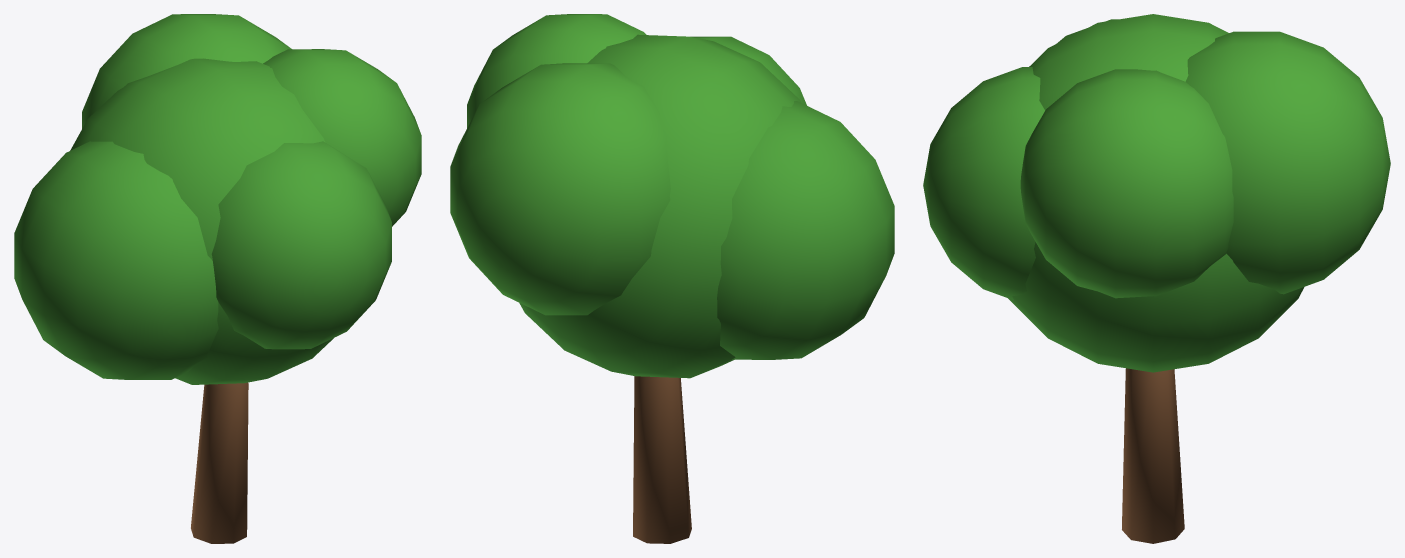
The model's file is tree_round_dark.glb.
3 views of the same model, side by side, from view 1: azimuth 30°, elevation 25°; view 2: azimuth 150°, elevation 25°; view 3: azimuth 270°, elevation 25° (orthographic). The views are drawn at different scales.
Parts seen in each view (by area): view 1: Tree_Round_Dark_Canopy, Tree_Round_Dark_Trunk; view 2: Tree_Round_Dark_Canopy, Tree_Round_Dark_Trunk; view 3: Tree_Round_Dark_Canopy, Tree_Round_Dark_Trunk.
Boxes of the visible parts, box(x1,y1,x2,y2) form: Tree_Round_Dark_Canopy: box(14, 14, 421, 384); Tree_Round_Dark_Trunk: box(191, 382, 248, 543); Tree_Round_Dark_Canopy: box(450, 14, 894, 378); Tree_Round_Dark_Trunk: box(633, 376, 691, 543); Tree_Round_Dark_Canopy: box(923, 14, 1390, 372); Tree_Round_Dark_Trunk: box(1122, 368, 1184, 543).
Bounding box in the file's own units: 2.95 × 3.53 × 2.97.
